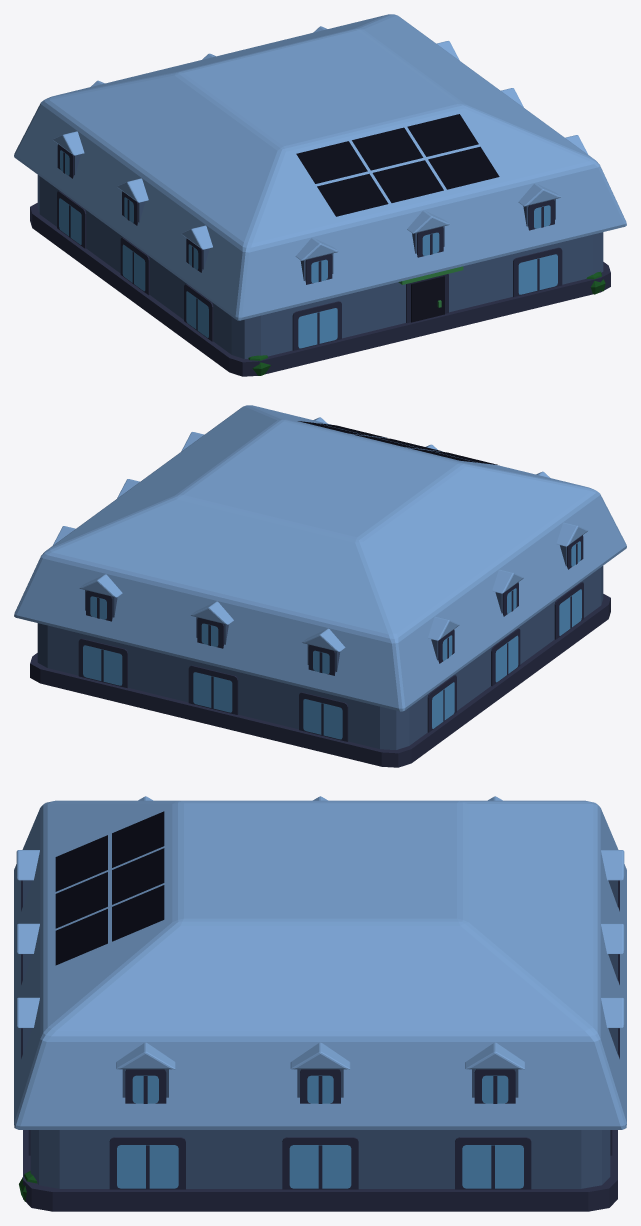
The model's file is house-2x2-1f-mansard-b-solar.glb.
3 views of the same model, one above another, from view 1: azimuth 30°, elevation 25°; view 2: azimuth 150°, elevation 25°; view 3: azimuth 270°, elevation 25° (orthographic). The views are drawn at different scales.
Parts seen in each view (by area): view 1: house-2x2-1f-mansard-b-solar; view 2: house-2x2-1f-mansard-b-solar; view 3: house-2x2-1f-mansard-b-solar.
Part boxes in pixels (box(x1,y1,x2,y2)): house-2x2-1f-mansard-b-solar: box(14, 14, 626, 376); house-2x2-1f-mansard-b-solar: box(14, 405, 626, 767); house-2x2-1f-mansard-b-solar: box(14, 796, 626, 1211).
Bounding box in the file's own units: 1.99 × 0.8052 × 1.99.
1 material, 1 textured.
